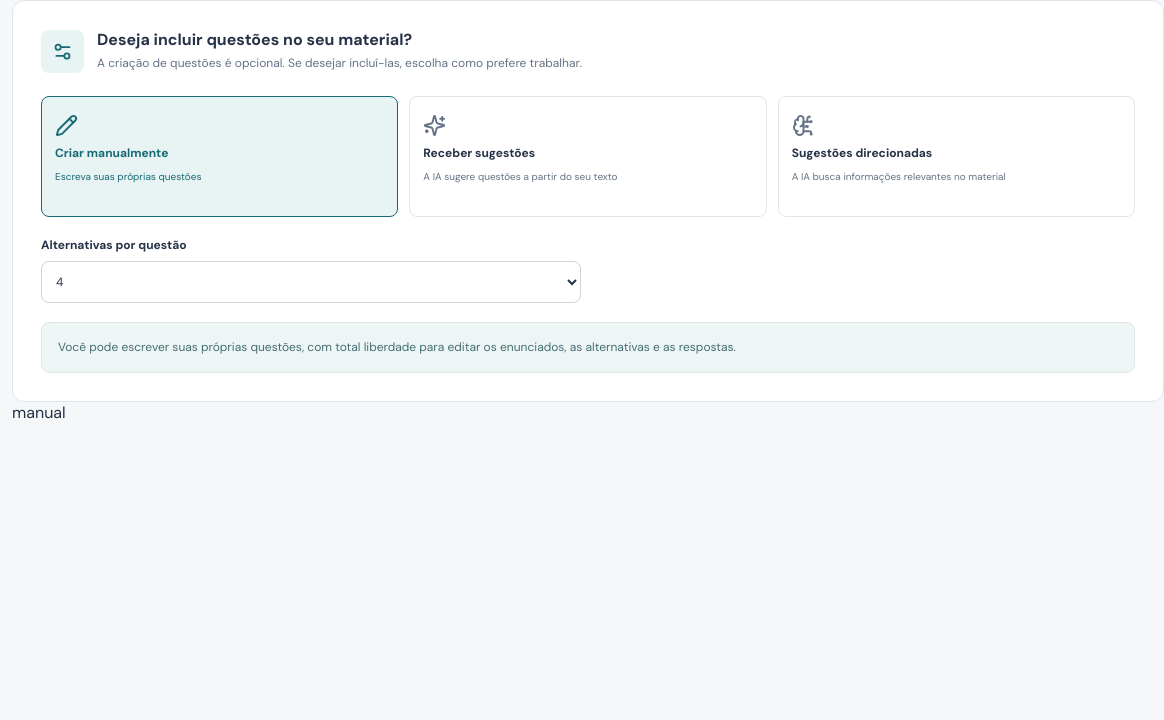
it: opções de preparação do material › permite retornar ao modo manual
The image size is (1164, 720).
Click the button "Sugestões direcionadas" at (862, 153), box 778,96 -> 1135,217
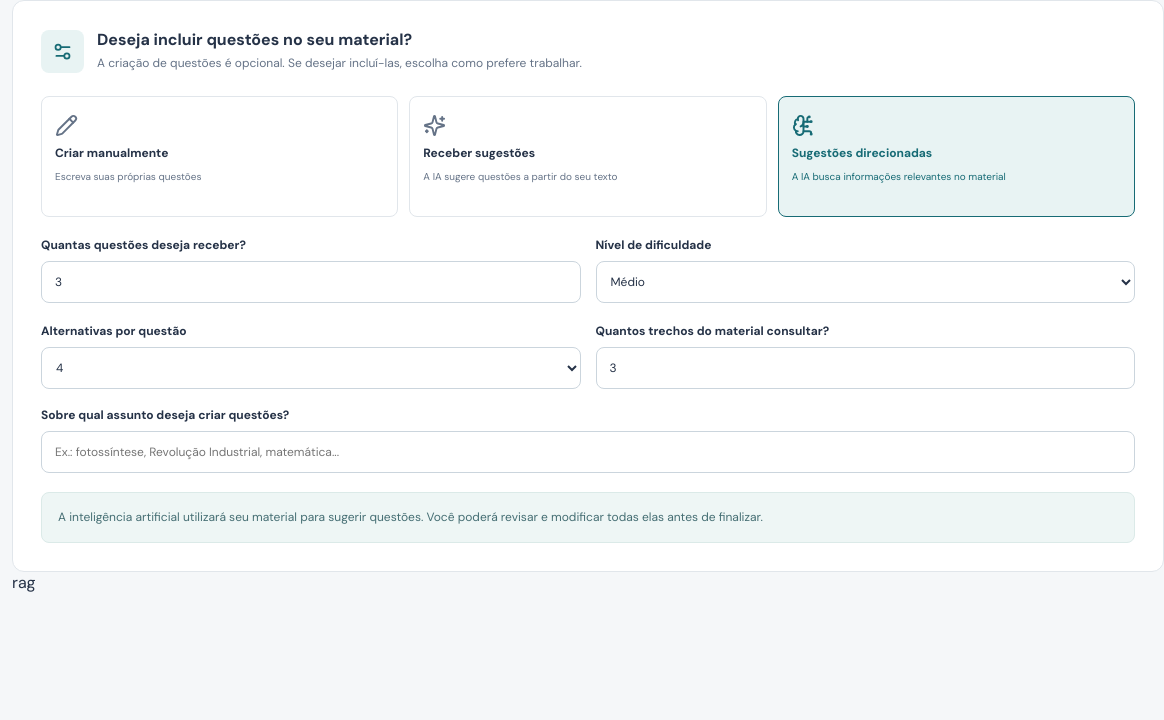
Now the text with test id "selected-mode" reads "rag", box 12,572 -> 36,593
Click the button "Criar manualmente Escreva suas próprias questões" at (112, 153), box 41,96 -> 398,217
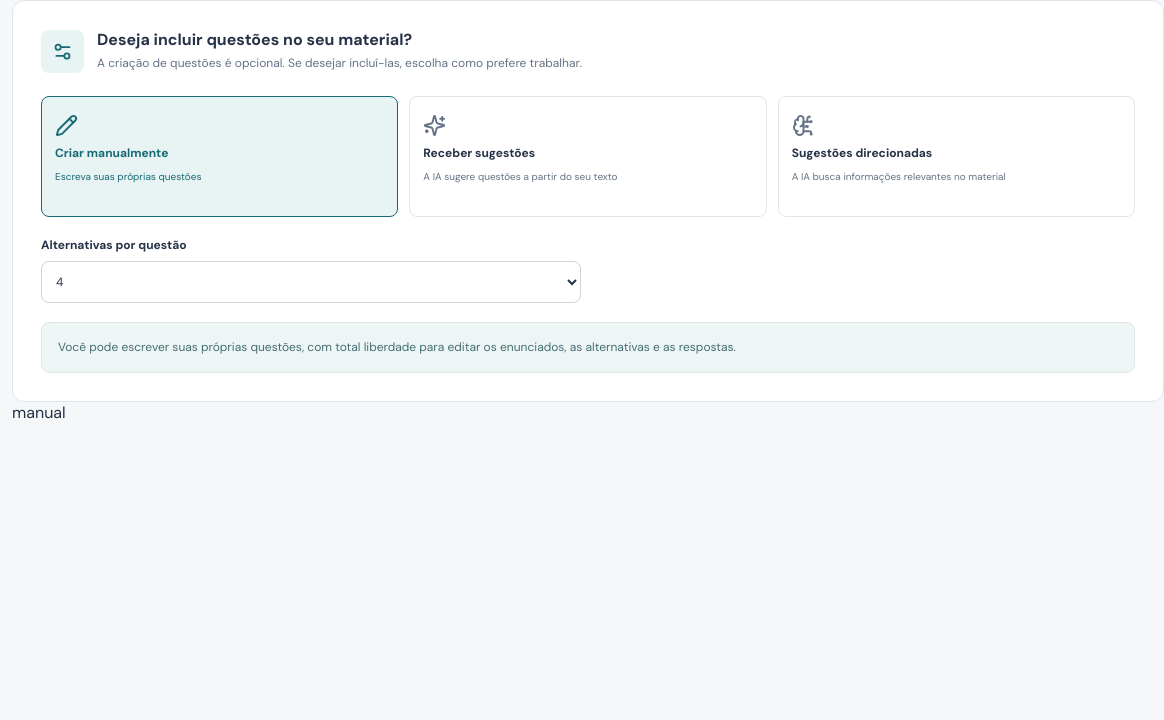
Now the text with test id "selected-mode" reads "manual", box 12,402 -> 66,423
Now the label labelled "Sobre qual assunto deseja criar questões?" is gone
